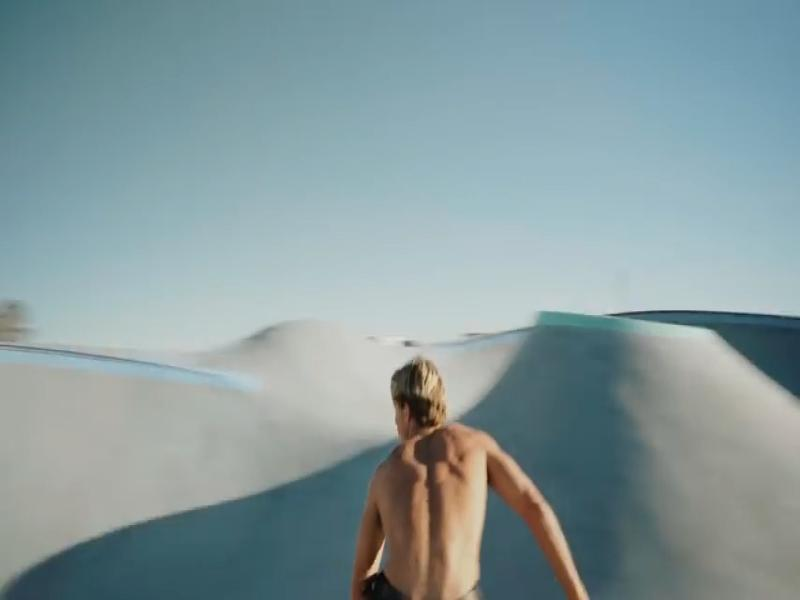person: (352, 359, 588, 600)
